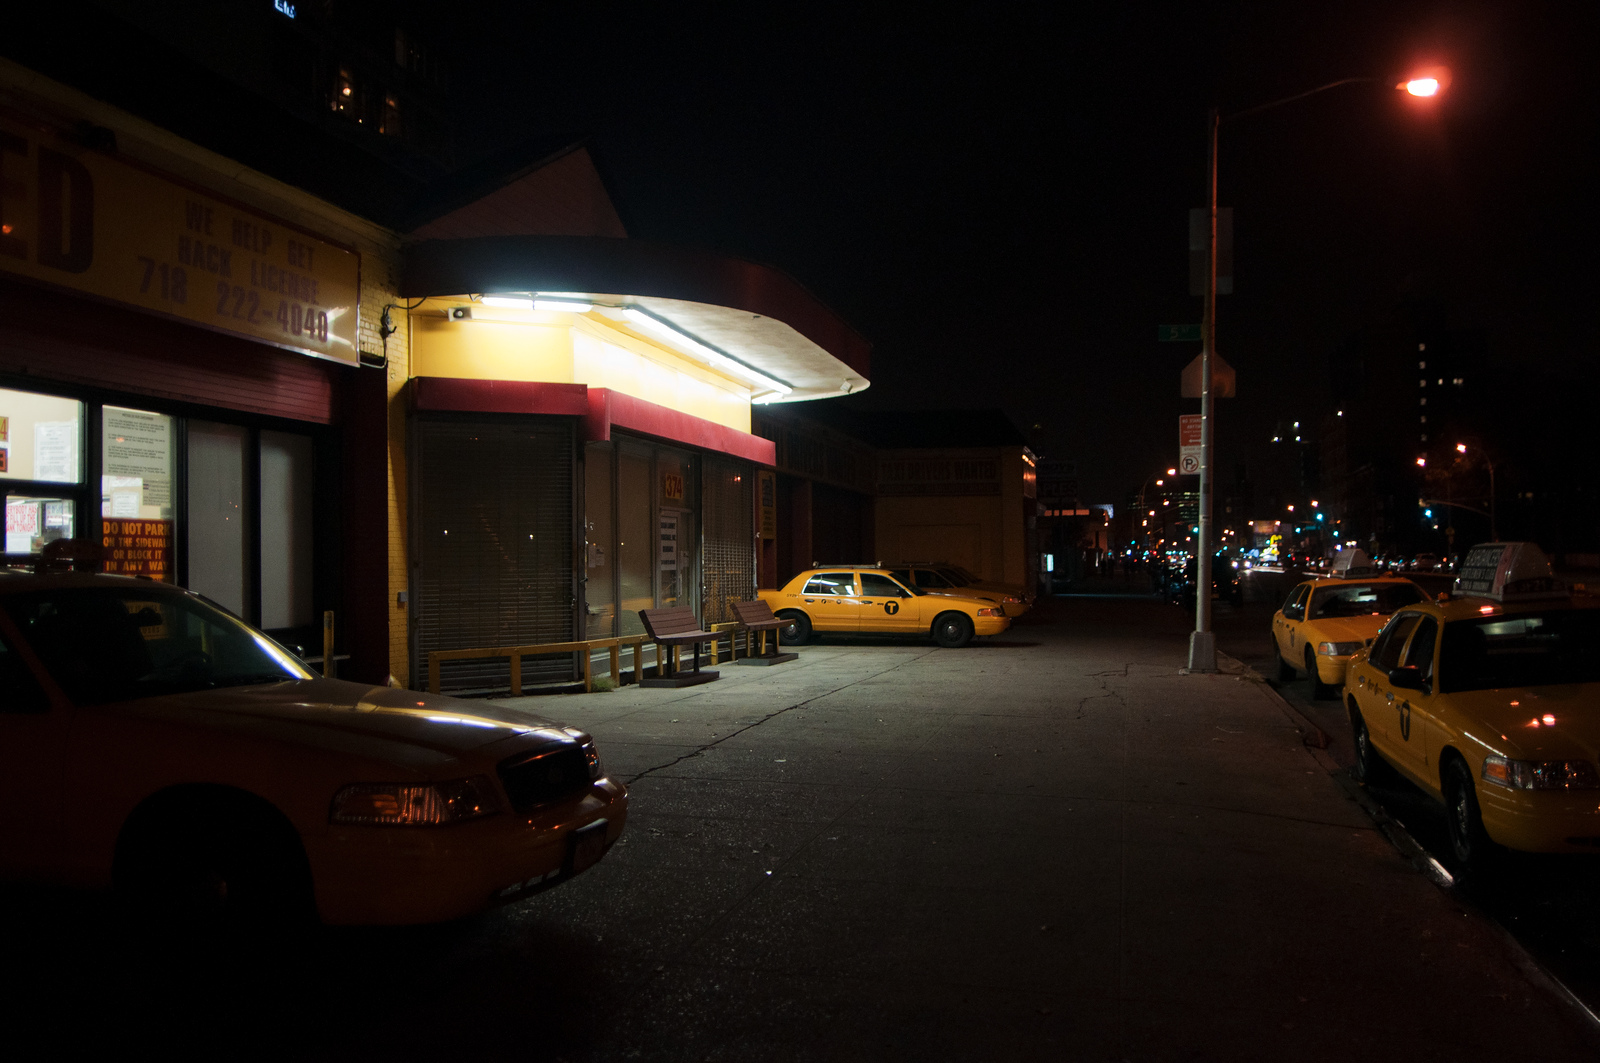car: (761, 556, 1024, 648)
